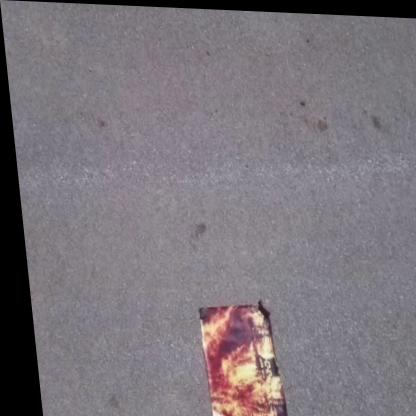fire-poster: (188, 293, 282, 416)
